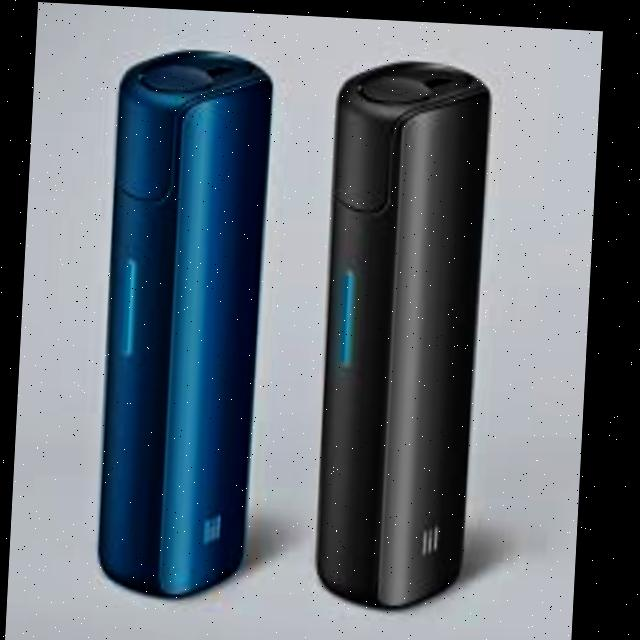vape: (316, 51, 491, 609), (97, 43, 272, 599)
